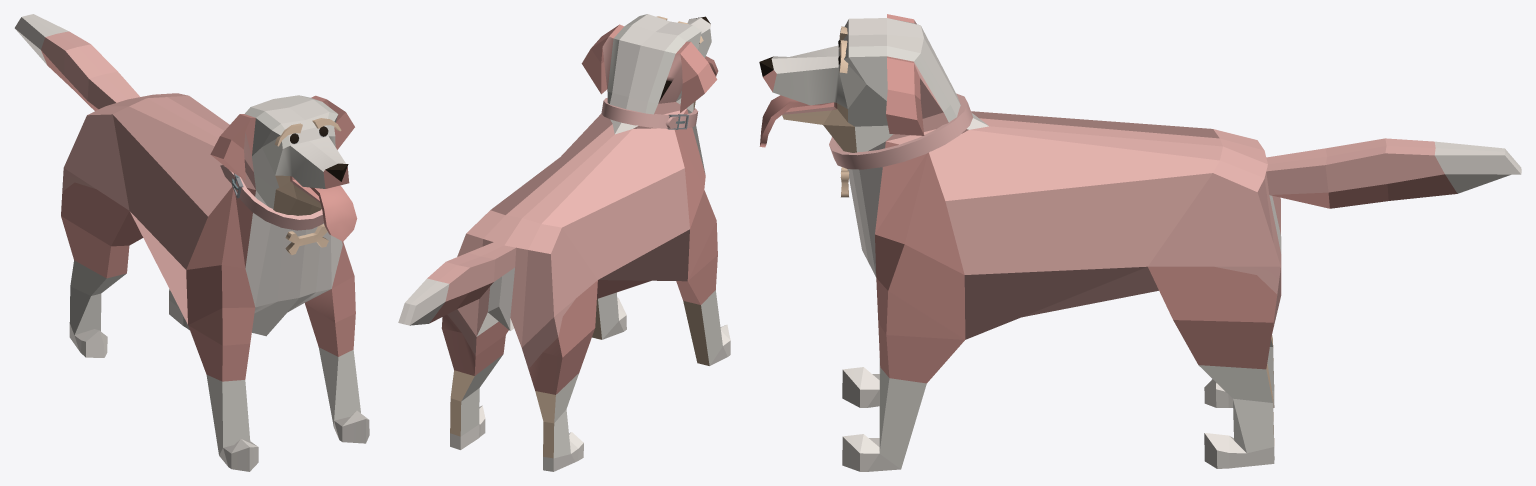
The model's file is Dog with a collar tex2.obj.
3 renders of one model, left to right at view 1: azimuth 30°, elevation 25°; view 2: azimuth 150°, elevation 25°; view 3: azimuth 270°, elevation 25°, orthographic. The views are drawn at different scales.
Visible parts, largest first — view 1: Dog_w_Collar; view 2: Dog_w_Collar; view 3: Dog_w_Collar.
Boxes of the visible parts, x1=… form: Dog_w_Collar: x1=14, y1=14, x2=369, y2=471; Dog_w_Collar: x1=398, y1=14, x2=730, y2=471; Dog_w_Collar: x1=759, y1=14, x2=1521, y2=471.
Bounding box in the file's own units: 1.83 × 4.24 × 7.31.
1 material, 1 textured.
